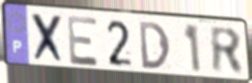1: (182, 22, 202, 75)
2: (105, 19, 134, 70)
D: (137, 20, 172, 71)
E: (65, 14, 101, 68)
R: (208, 24, 246, 77)
X: (30, 11, 67, 67)
